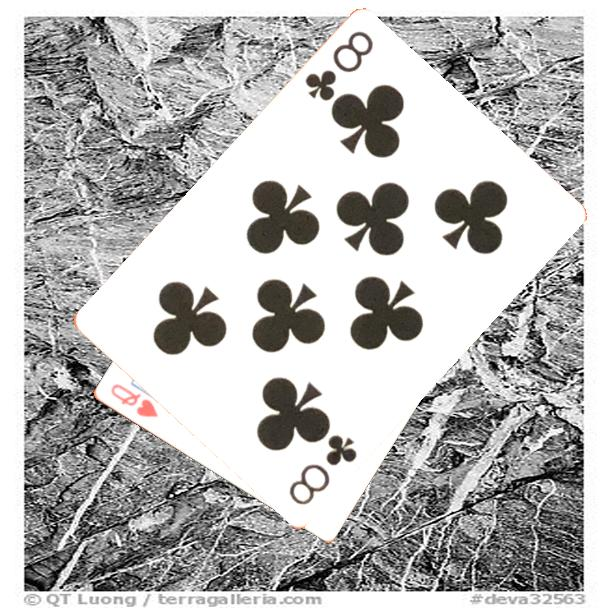c08: (301, 27, 377, 105), (285, 432, 361, 509)
h12: (107, 380, 161, 420)
